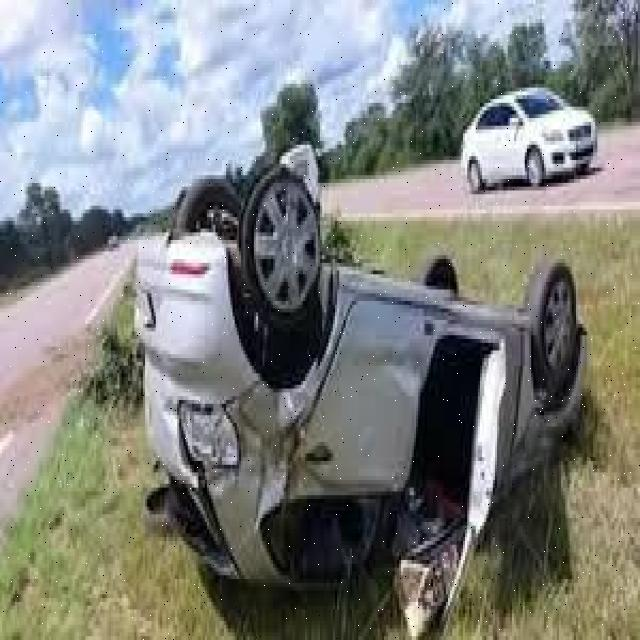severe: (127, 158, 594, 600)
